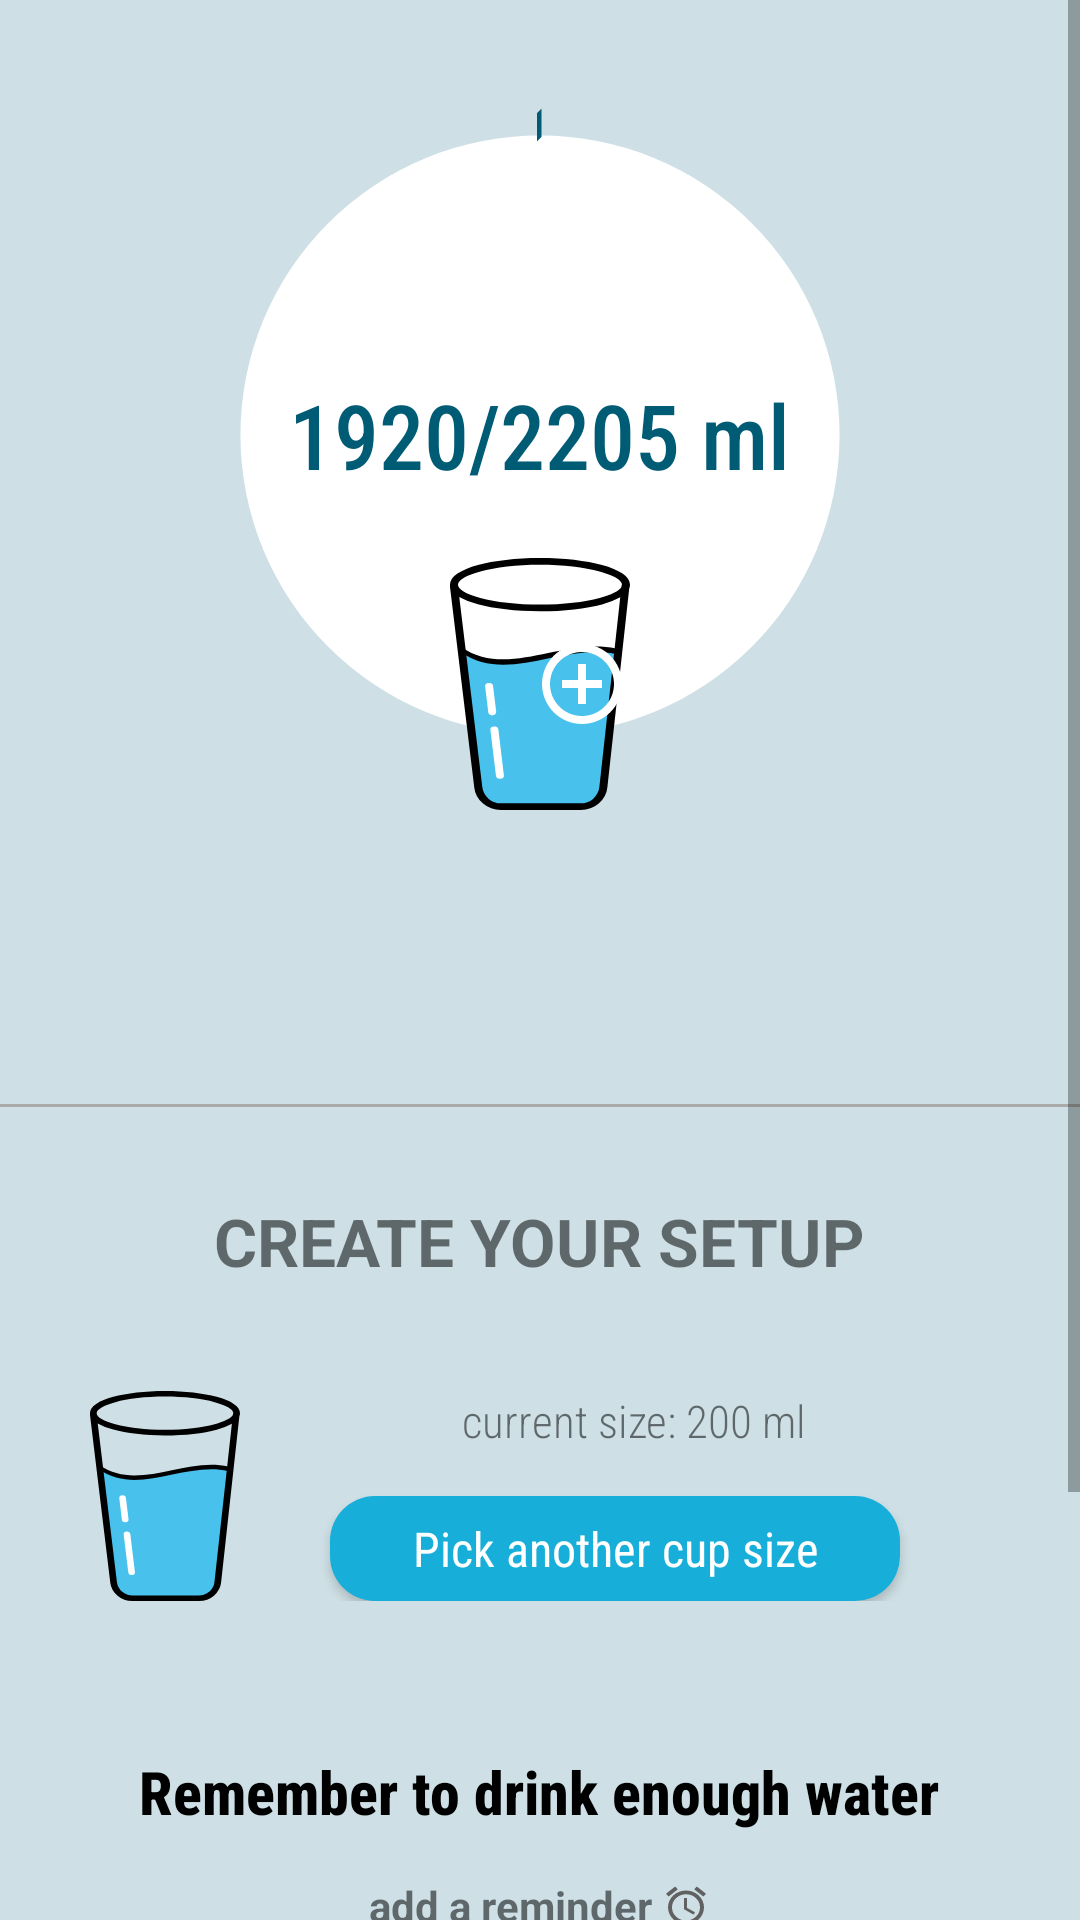

Icons on this 1080x1920 Android screen, each with the point to tap as [x,y]:
water glass: [540,684], [165,1496]
